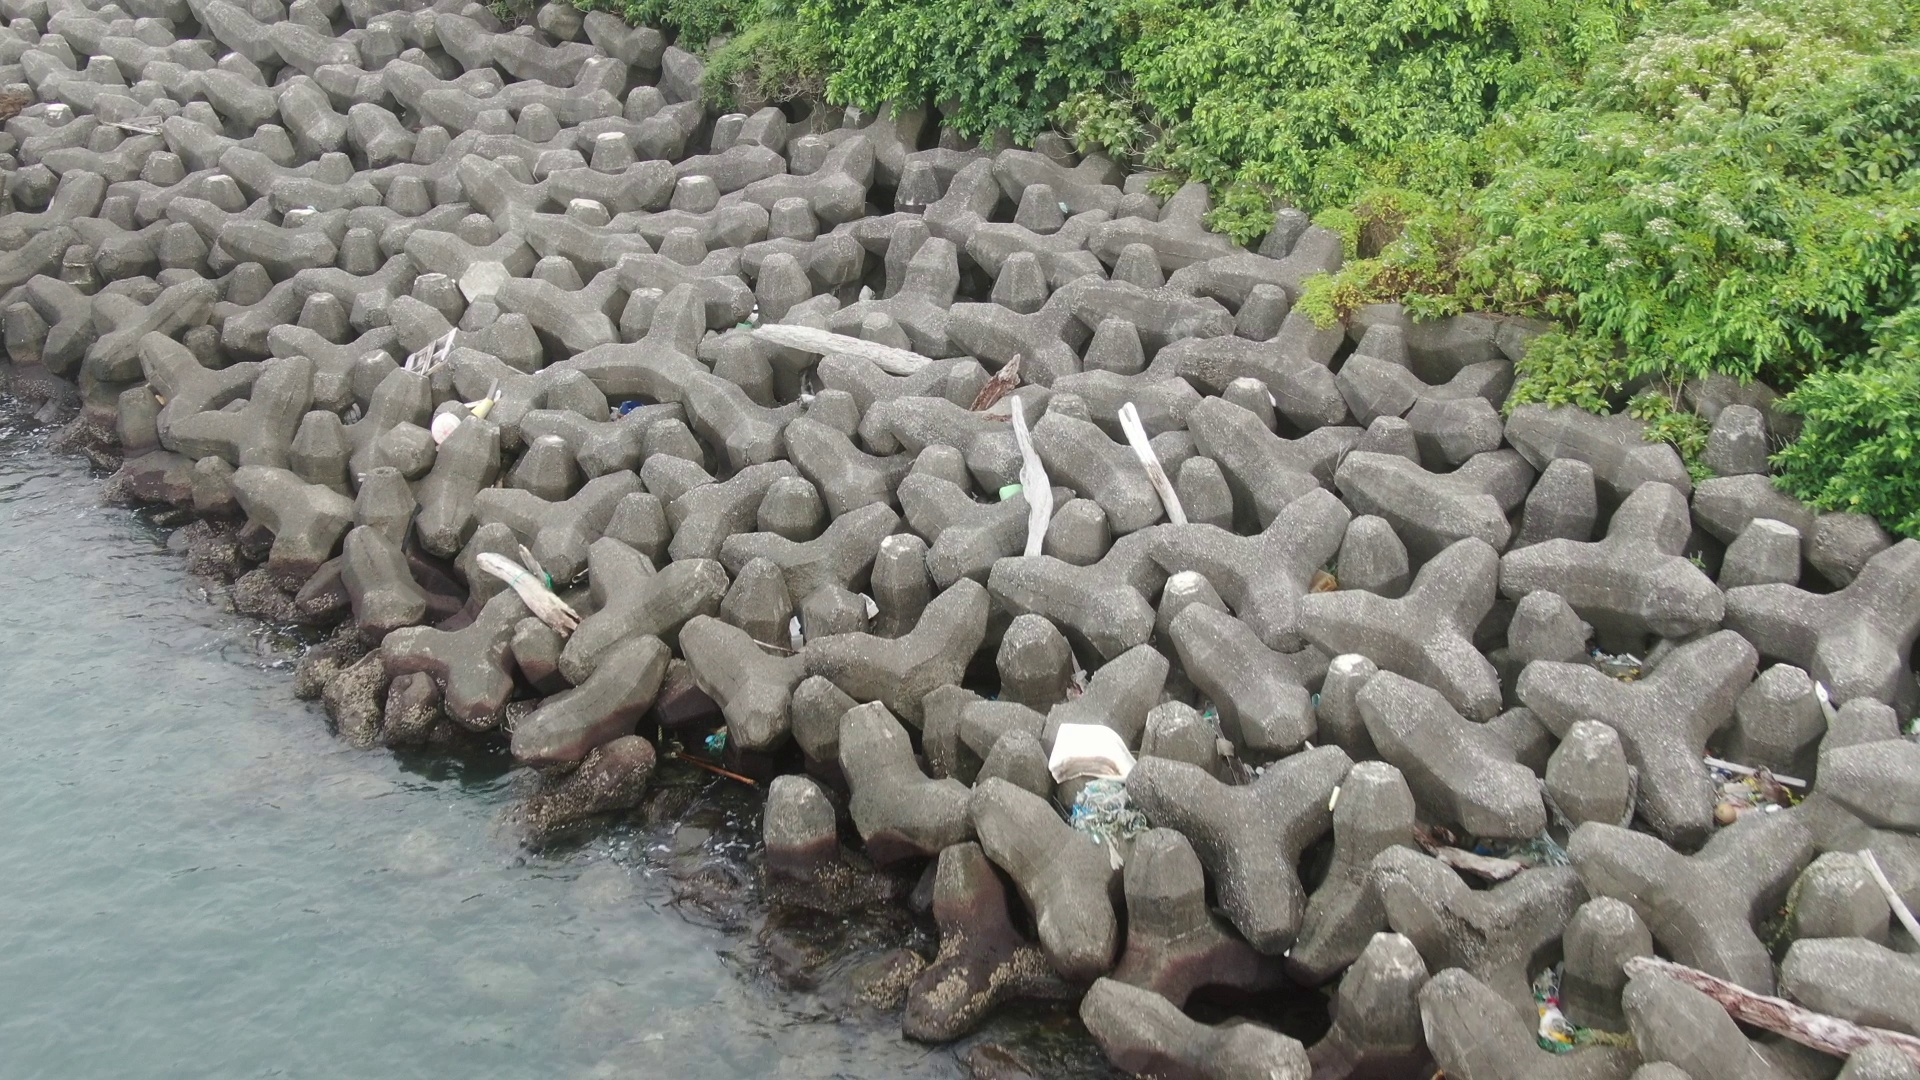garbage: (1408, 796, 1623, 902), (1044, 713, 1166, 860), (1695, 752, 1795, 829), (1528, 957, 1596, 1056), (423, 388, 509, 444), (396, 320, 459, 378), (603, 394, 647, 419)
